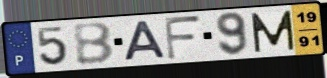5: (35, 25, 69, 68)
9: (214, 11, 250, 59)
A: (121, 19, 169, 62)
B: (71, 21, 116, 67)
F: (162, 15, 204, 62)
M: (249, 9, 297, 55)
